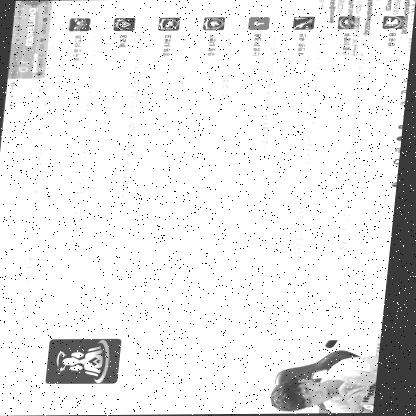streamer: (278, 355, 386, 414)
